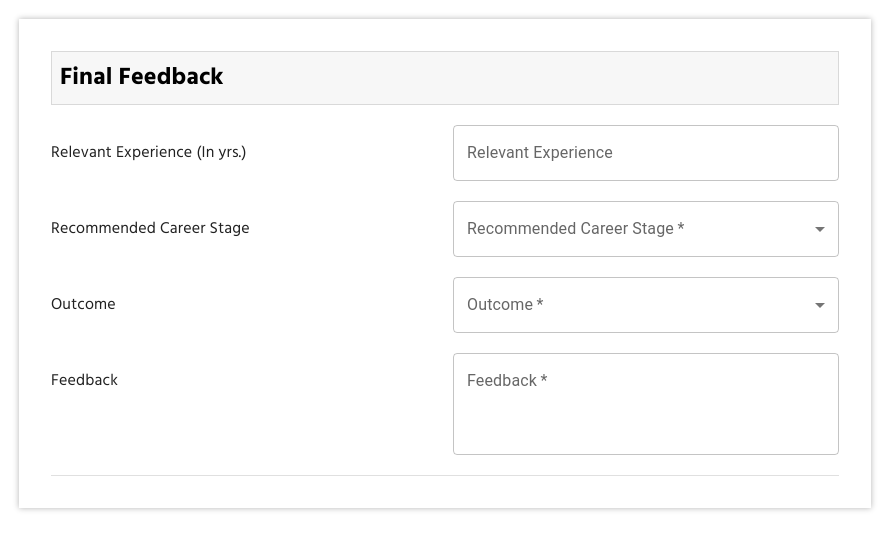
Scenario: Final Feedback › relaventExperience validation on 99>value<0
Step 1. Type "1000" into the number field labelled "Relevant Experience" → (646, 153), box [453, 125, 839, 181]
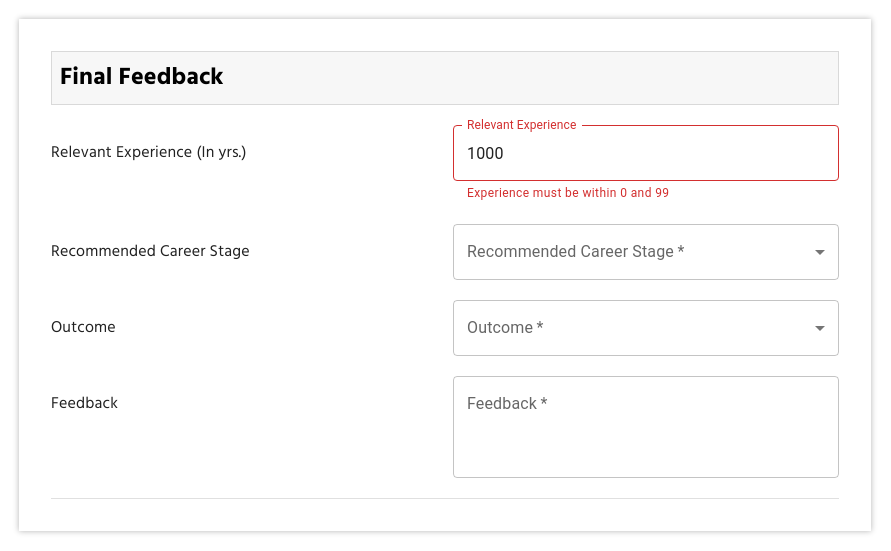
Check: the text "Experience must be within 0 and 99" is shown, box [467, 186, 670, 200]
